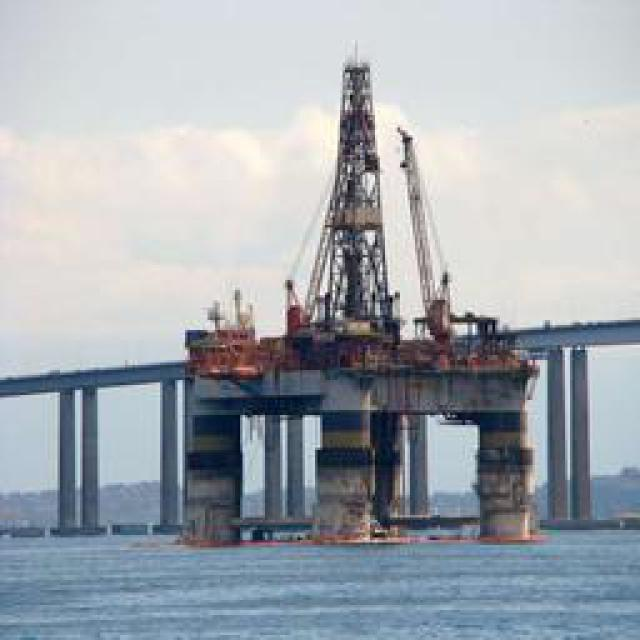Ship: (206, 42, 536, 470)
